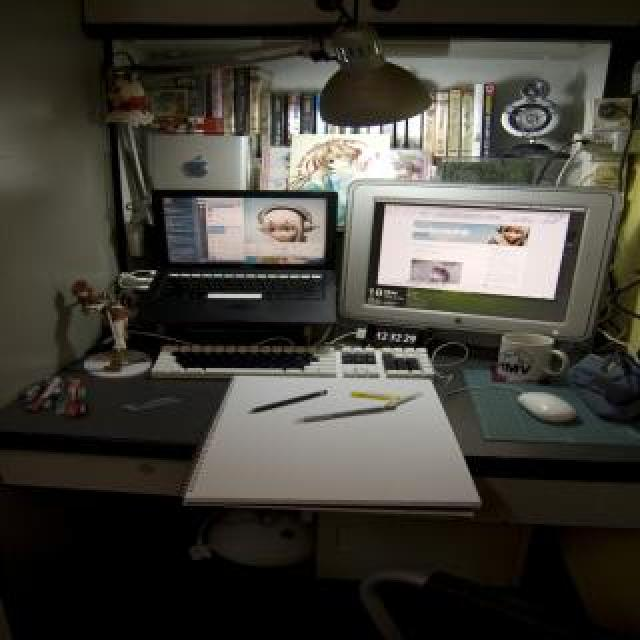laptop_computer: (338, 180, 622, 346), (138, 190, 342, 341)
mouse: (511, 385, 590, 436)
